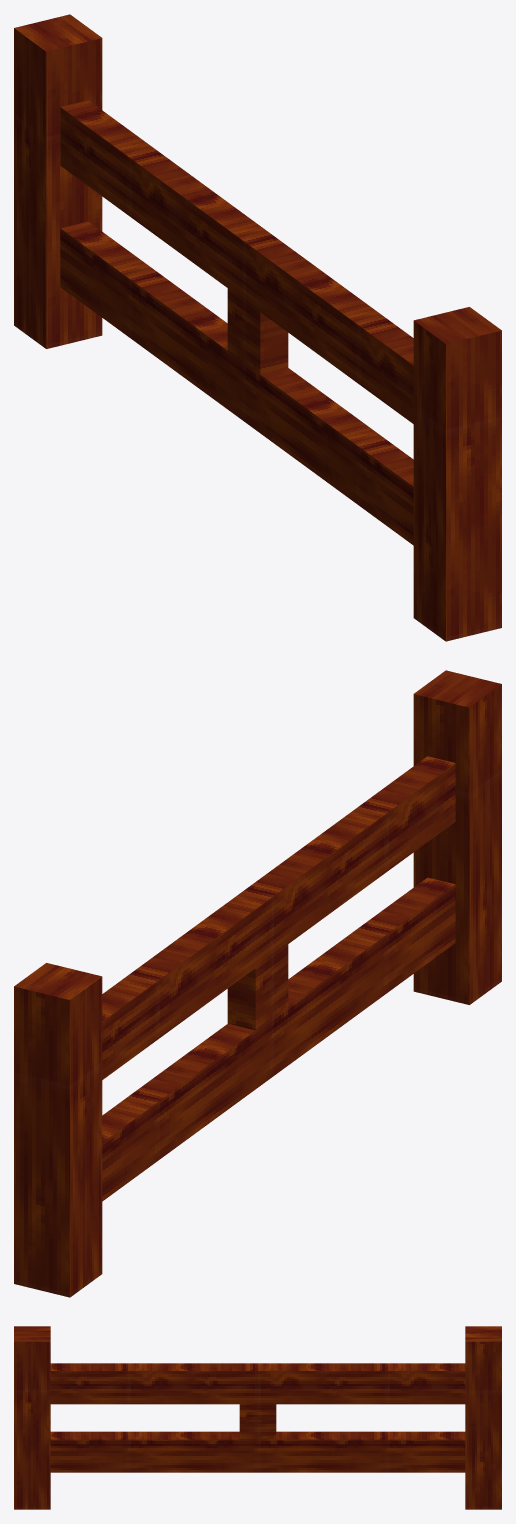
The model's file is woodfence.glb.
3 views of the same model, one above another, from view 1: azimuth 30°, elevation 25°; view 2: azimuth 150°, elevation 25°; view 3: azimuth 270°, elevation 25° (orthographic). The views are drawn at different scales.
Visible parts, largest first — view 1: fence; view 2: fence; view 3: fence.
Boxes of the visible parts, x1=… form: fence: x1=14, y1=14, x2=501, y2=641; fence: x1=14, y1=670, x2=501, y2=1297; fence: x1=14, y1=1326, x2=501, y2=1509.
Bounding box in the file's own units: 0.075 × 0.38 × 1.
1 material, 1 textured.
